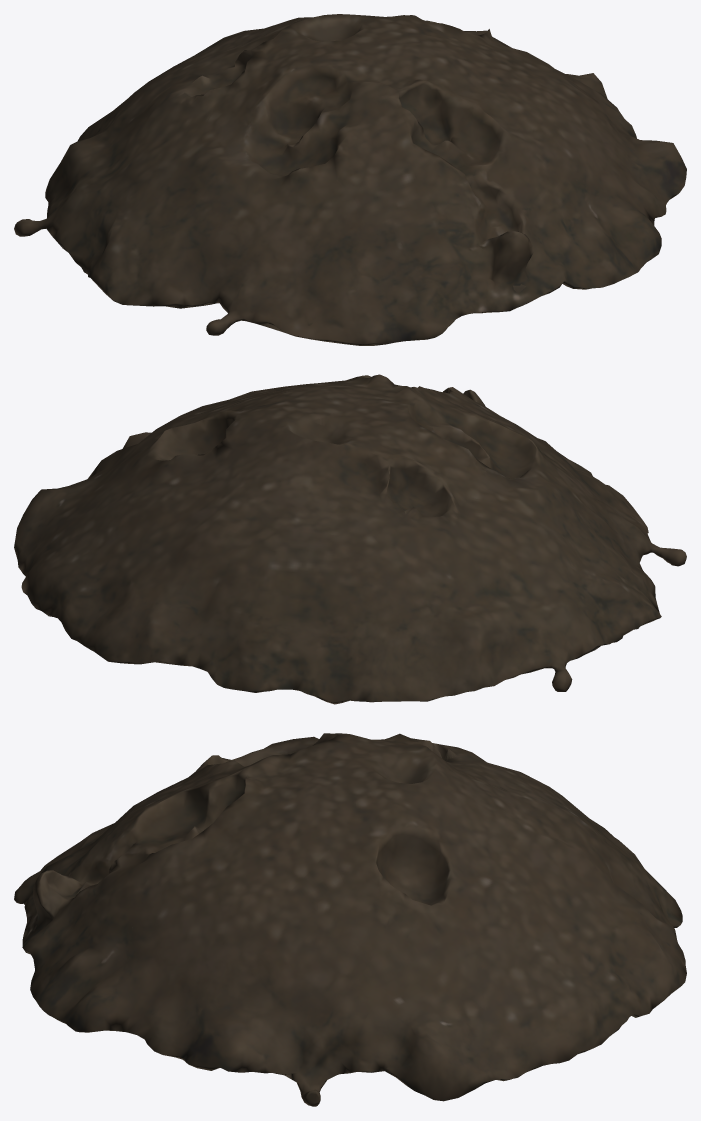
File: SuperMonticule4.fbx
The picture shows the model from 3 angles, top to bottom: view 1: azimuth 30°, elevation 25°; view 2: azimuth 150°, elevation 25°; view 3: azimuth 270°, elevation 25°; orthographic projection. The views are drawn at different scales.
Visible parts, largest first — view 1: geometry_0; view 2: geometry_0; view 3: geometry_0.
Part boxes in pixels (x1=…): geometry_0: x1=14, y1=14, x2=686, y2=345; geometry_0: x1=14, y1=374, x2=686, y2=704; geometry_0: x1=14, y1=733, x2=686, y2=1106.
Bounding box in the file's own units: 100 × 29.8 × 94.85.
1 material, 1 textured.
